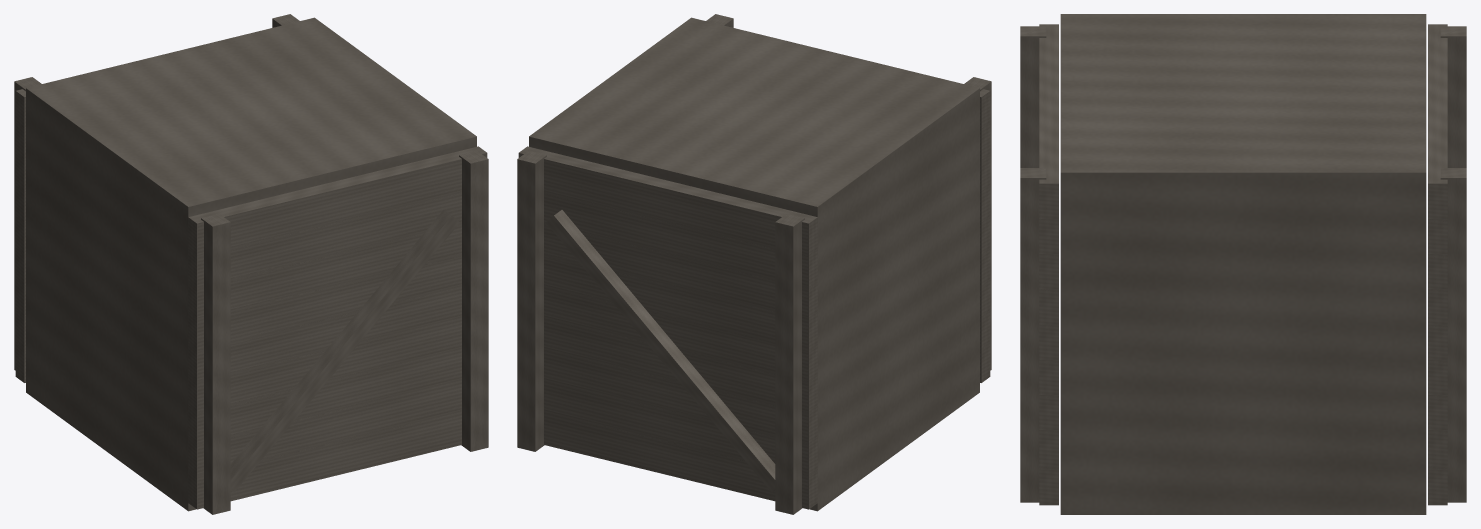
Rendered from timber_wall_z.glb.
3 views of the same model, side by side, from view 1: azimuth 30°, elevation 25°; view 2: azimuth 150°, elevation 25°; view 3: azimuth 270°, elevation 25° (orthographic). The views are drawn at different scales.
Parts seen in each view (by area): view 1: G3_timber_z; view 2: G3_timber_z; view 3: G3_timber_z.
Boxes of the visible parts, x1,y1,x2,y2 form: G3_timber_z: (14, 14, 488, 514); G3_timber_z: (517, 14, 991, 514); G3_timber_z: (1020, 14, 1466, 514).
Size of the model in its own units: 0.99 by 0.992 by 1.17.
1 material, 1 textured.
